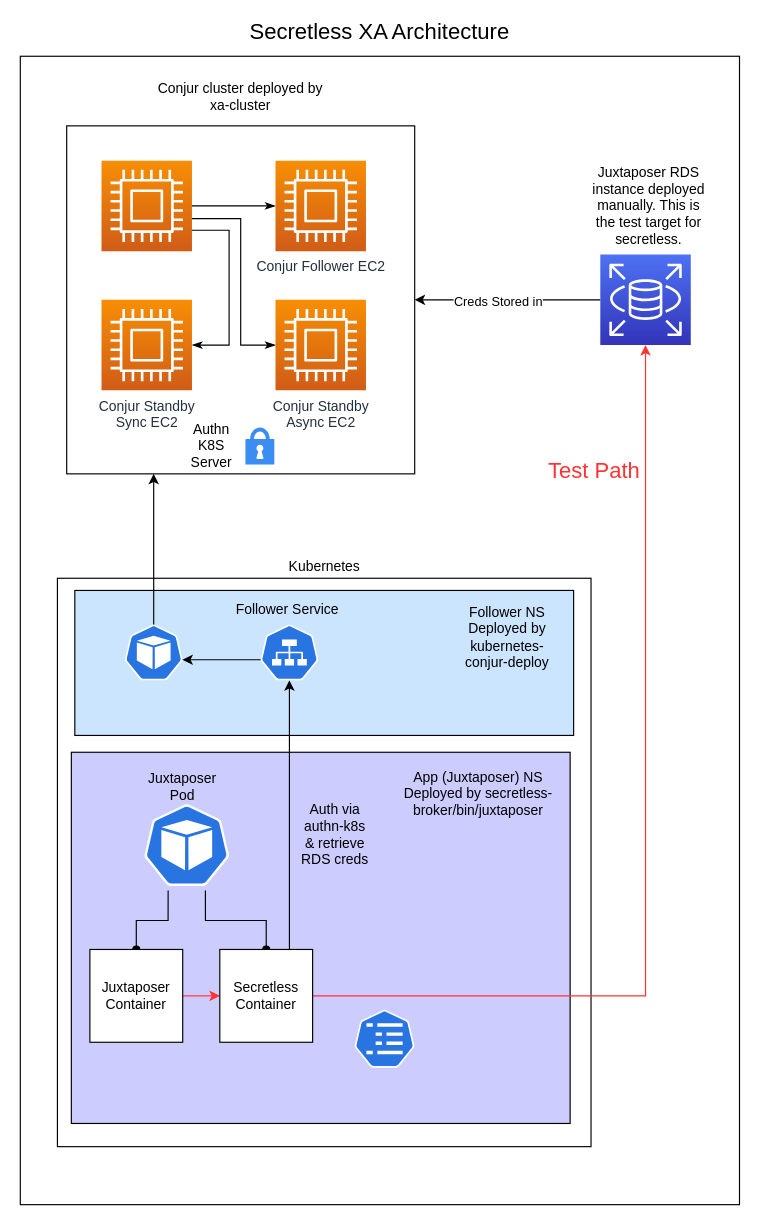
Some shapes in this 760 by 1225 pixel diagram are drawn without their labels. Here are the shapes that lost their labels. From the top down, the centre of each, then its label:
the point at 146,205: Conjur Primary EC2
the point at 153,652: Conjur Follower Pod
the point at 384,1038: dap-ssl-cert configmap Used by secretless to verify the follower's cert
